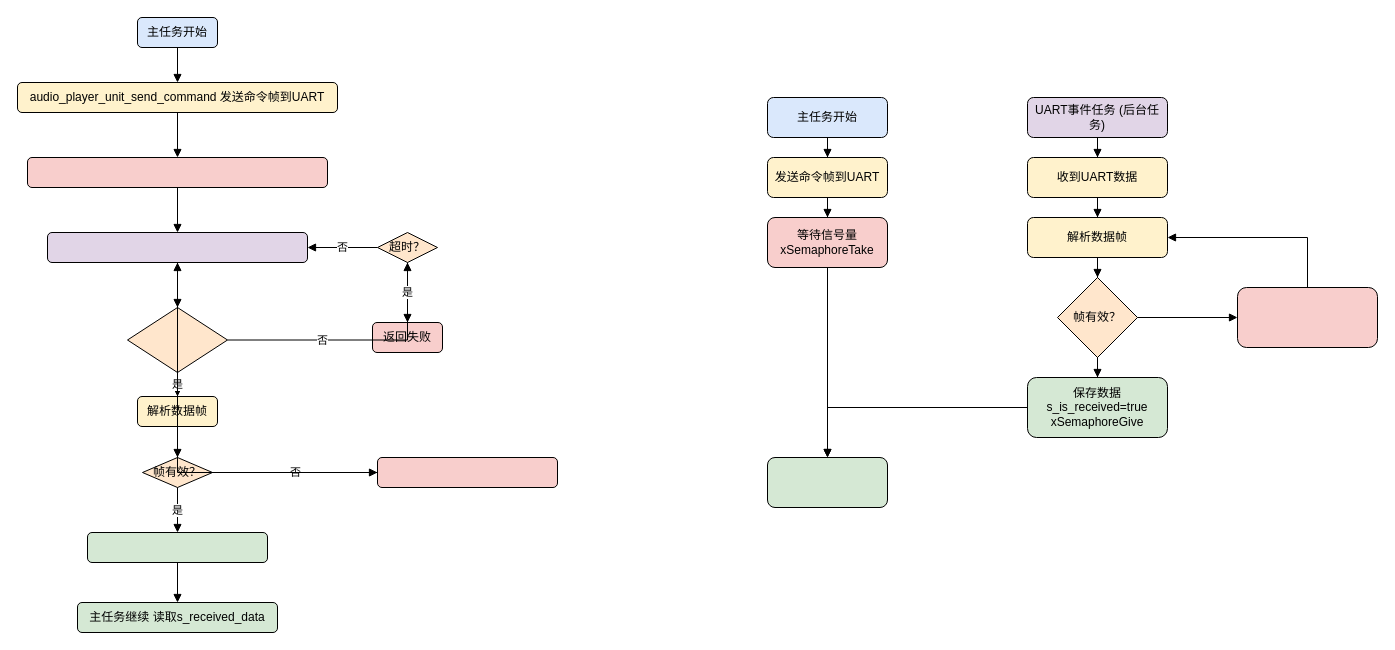
Image size: 1395x650. Some labels were removed from this diagram. Each missing label, with the box of its shape:
audio_player_unit_update 检查UART缓冲区: (46, 232, 308, 262)
audio_player_unit_wait_for_response 循环等待响应: (26, 156, 328, 188)
UART有数据？: (126, 306, 228, 372)
丢弃残余数据 uart_flush_input: (376, 456, 558, 488)
丢弃第一个字节 重新同步: (1236, 286, 1378, 348)
主任务被唤醒 读取s_received_data: (766, 456, 888, 508)
保存数据 s_is_received=true: (86, 532, 268, 562)
